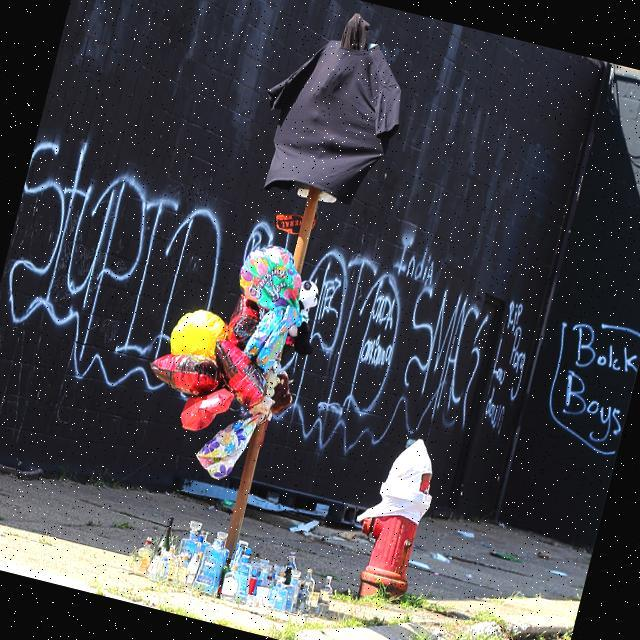fire_hydrant: (339, 422, 447, 608)
